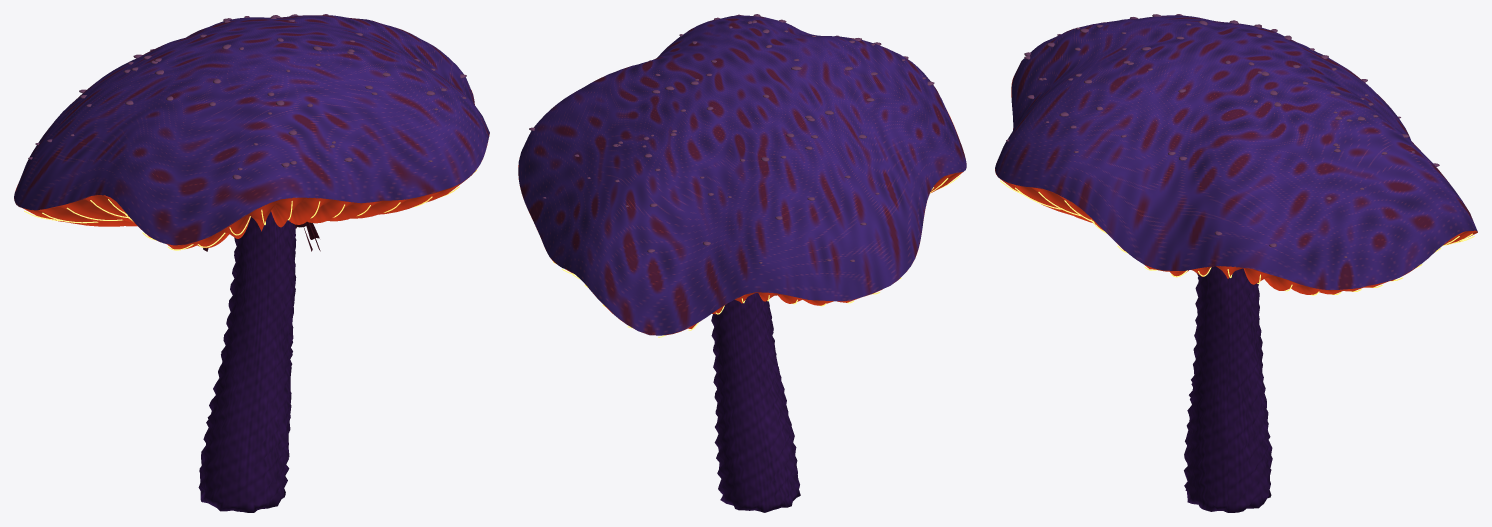
Rendered from violet_lantern.glb.
3 renders of one model, left to right at view 1: azimuth 30°, elevation 25°; view 2: azimuth 150°, elevation 25°; view 3: azimuth 270°, elevation 25°, orthographic. The views are drawn at different scales.
Parts seen in each view (by area): view 1: Violet_Lantern; view 2: Violet_Lantern; view 3: Violet_Lantern.
Part boxes in pixels (left/top/right/bottom): Violet_Lantern: left=14, top=14, right=489, bottom=512; Violet_Lantern: left=518, top=14, right=966, bottom=512; Violet_Lantern: left=995, top=14, right=1477, bottom=512.
Bounding box in the file's own units: 0.3025 × 0.3192 × 0.3005.
6 materials, 4 textured.
